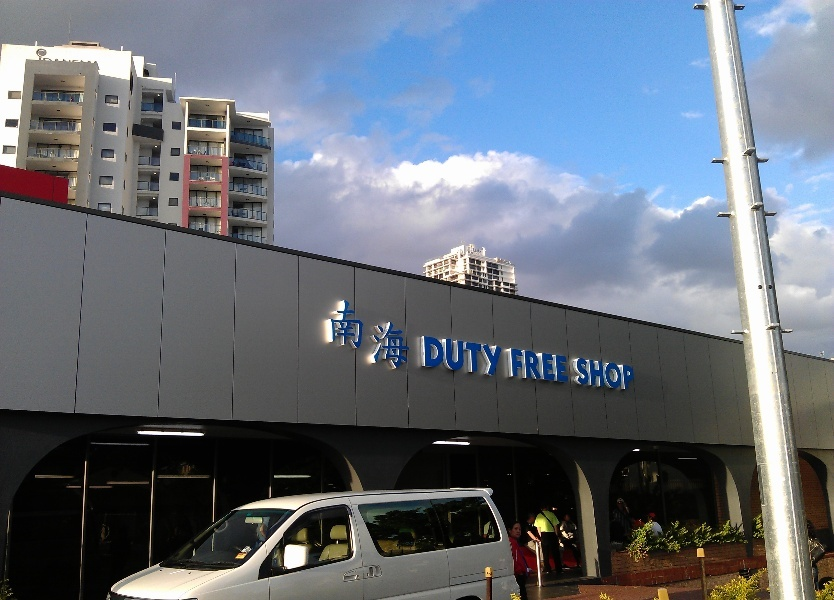text: (337, 294, 352, 372), (353, 294, 368, 372), (369, 294, 384, 372), (385, 294, 400, 372), (324, 294, 336, 372), (401, 294, 411, 372), (433, 335, 448, 379), (449, 335, 464, 379), (465, 335, 480, 379), (481, 335, 496, 379), (513, 348, 528, 384), (529, 348, 544, 384), (545, 348, 560, 384), (577, 357, 592, 391), (593, 357, 608, 391), (609, 357, 624, 391), (421, 335, 432, 379), (625, 357, 637, 391), (561, 348, 570, 384), (497, 335, 503, 379), (507, 348, 512, 384), (574, 357, 576, 391)
